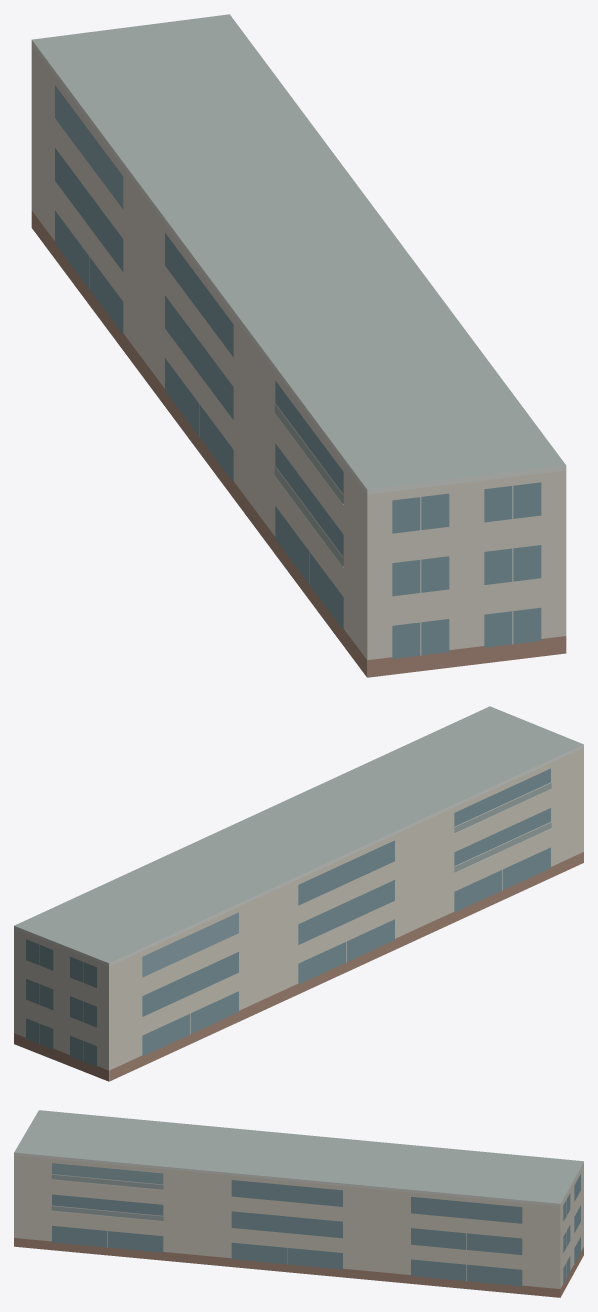
File: survey-upis-32528308.glb
The picture shows the model from 3 angles, top to bottom: view 1: azimuth 30°, elevation 25°; view 2: azimuth 150°, elevation 25°; view 3: azimuth 270°, elevation 25°; orthographic projection. The views are drawn at different scales.
Parts seen in each view (by area): view 1: survey-upis-32528308.tmp; view 2: survey-upis-32528308.tmp; view 3: survey-upis-32528308.tmp.
Part boxes in pixels (x1,y1,x2,y2): survey-upis-32528308.tmp: (31,14,566,677); survey-upis-32528308.tmp: (14,706,583,1081); survey-upis-32528308.tmp: (14,1110,583,1297).
Bounding box in the file's own units: 19.56 × 9.15 × 50.27.
